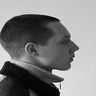ear: (21, 39, 43, 62)
